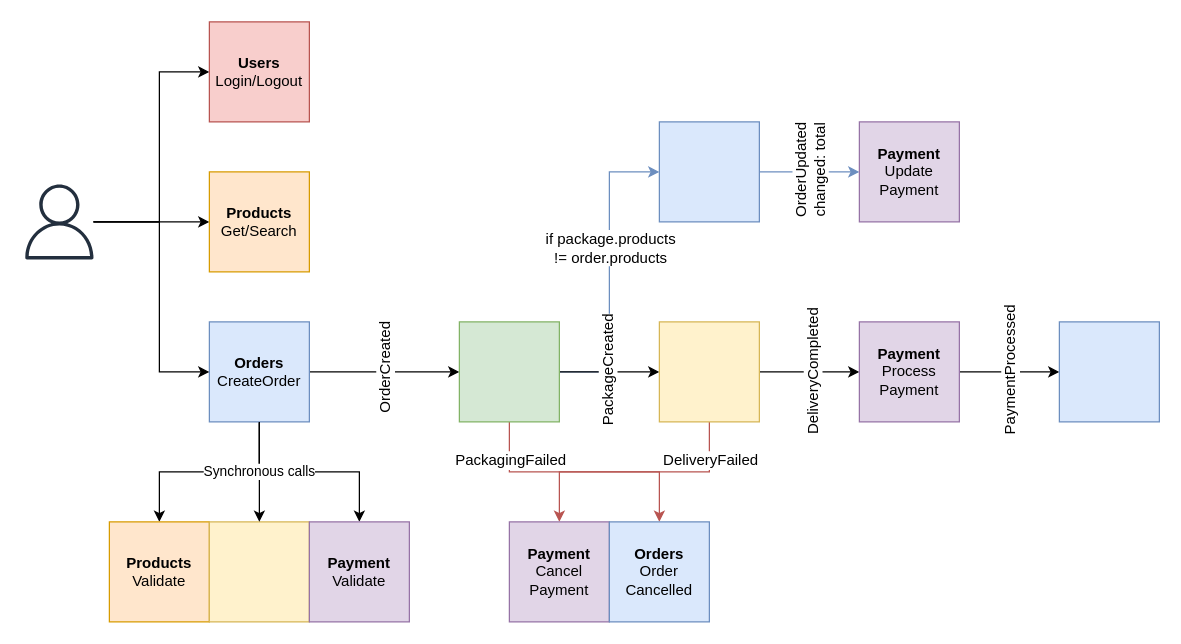
Some shapes in this 1181 by 644 pixel diagram are drawn without their labels. The shapes that lost their labels are listed below. From the top down, each one's centre as x and y in pixels, then its label:
point (708, 171): Orders UpdateOrder
point (508, 371): Warehouse Package
point (708, 371): Delivery Deliver
point (1108, 371): Orders Order Complete
point (258, 571): Delivery Validate
